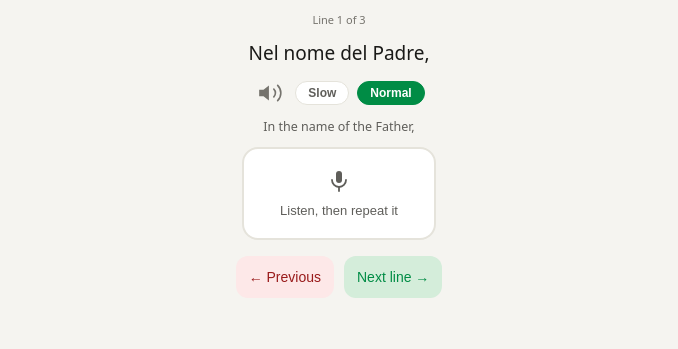
Test: DevotionsTab Shadow mode — the mic can always be used again › never claims to listen when start() throws, and recovers on the next tap
Click the button with aria-label "recording": [339, 193] box [242,146,436,240]
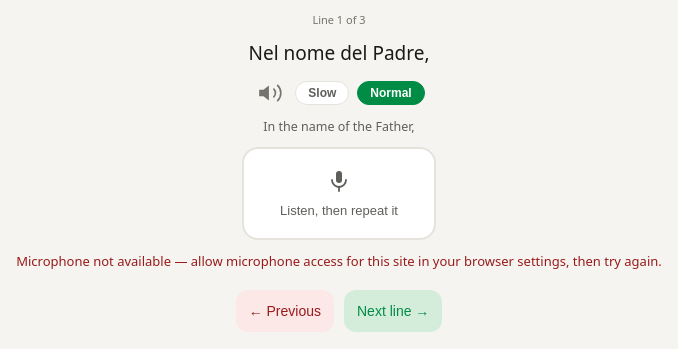
Check: the button "recording" does not show "Listening"
Check: the text "Microphone not available" is shown, box [16,252,662,270]
Click the button with aria-label "recording": [339, 193] box [242,146,436,240]
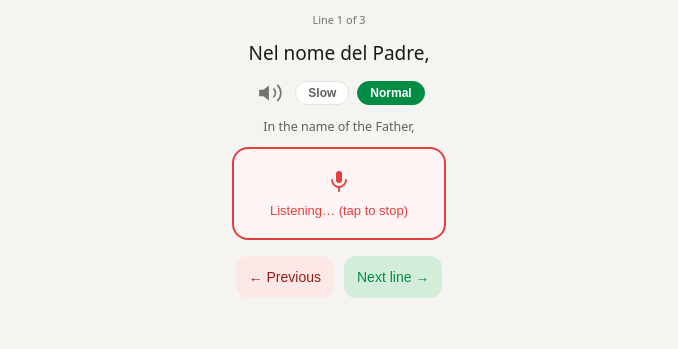
Check: the button with aria-label "recording" shows "Listening", box [232,146,446,240]
